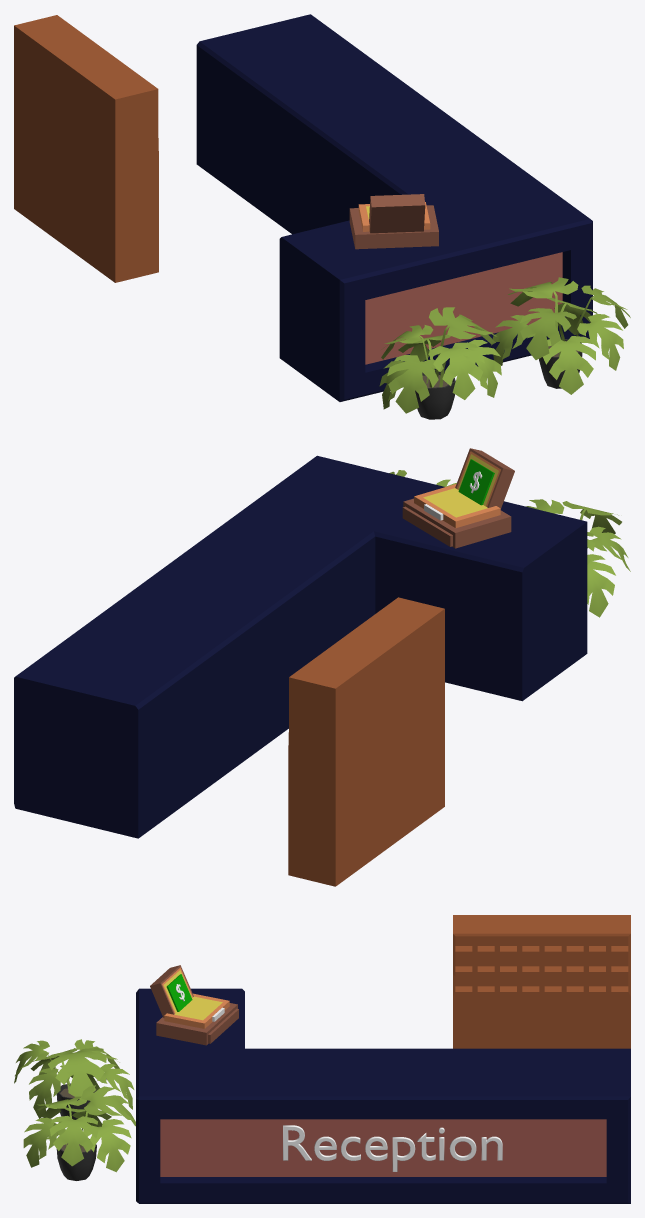
Rendered from Reception.fbx.
The picture shows the model from 3 angles, top to bottom: view 1: azimuth 30°, elevation 25°; view 2: azimuth 150°, elevation 25°; view 3: azimuth 270°, elevation 25°; orthographic projection. The views are drawn at different scales.
Visible parts, largest first — view 1: Text.001, Cube.003, Houseplant_7, Houseplant_7.001, Cube.002; view 2: Text.001, Cube.003, Cube.002, Houseplant_7; view 3: Text.001, Cube.003, Houseplant_7.001, Houseplant_7, Cube.002.
Boxes of the visible parts, x1=… form: Text.001: x1=196, y1=14, x2=592, y2=401; Cube.003: x1=14, y1=15, x2=158, y2=282; Houseplant_7: x1=379, y1=307, x2=501, y2=419; Houseplant_7.001: x1=491, y1=277, x2=630, y2=394; Cube.002: x1=349, y1=194, x2=438, y2=249; Text.001: x1=14, y1=455, x2=587, y2=838; Cube.003: x1=288, y1=597, x2=444, y2=886; Cube.002: x1=402, y1=448, x2=514, y2=548; Houseplant_7: x1=526, y1=499, x2=630, y2=617; Text.001: x1=136, y1=988, x2=630, y2=1203; Cube.003: x1=453, y1=915, x2=630, y2=1048; Houseplant_7.001: x1=23, y1=1085, x2=135, y2=1180; Houseplant_7: x1=14, y1=1039, x2=134, y2=1119; Cube.002: x1=150, y1=965, x2=238, y2=1045.
Bounding box in the file's own units: 3.08 × 1.8 × 6.23.
